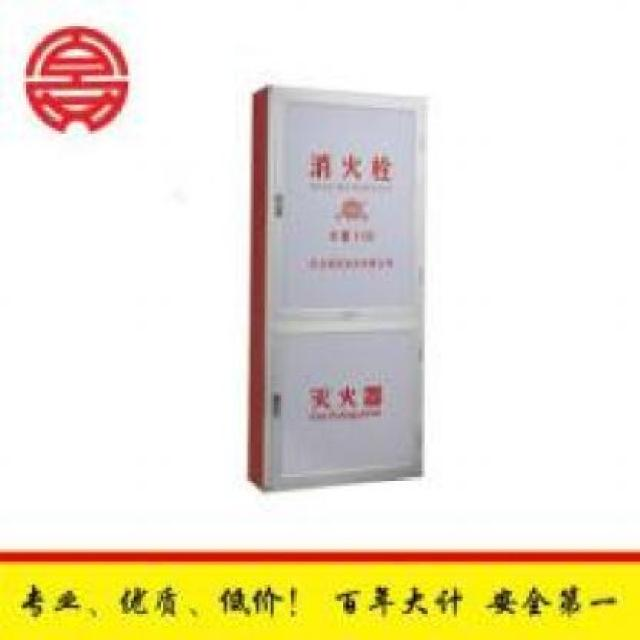firehydrant: (242, 79, 430, 496)
